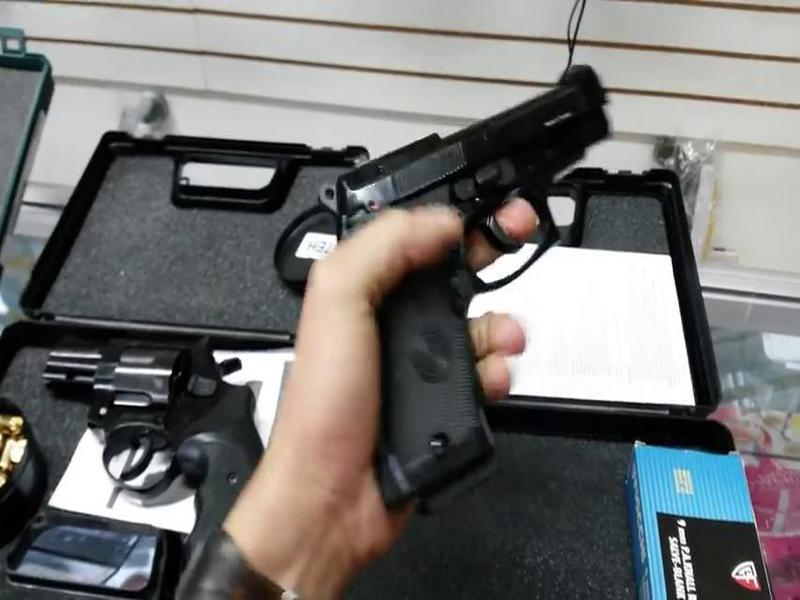Revolver: (333, 56, 632, 501), (40, 327, 290, 581)
